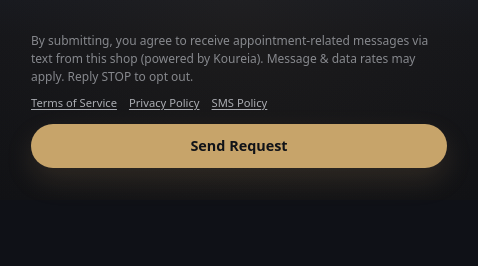
Test: RequestRenderer after-hours submit flow › requires name and phone before regular request submission
Click the button "Send Request".
click(239, 146)  # box [31,124,447,168]
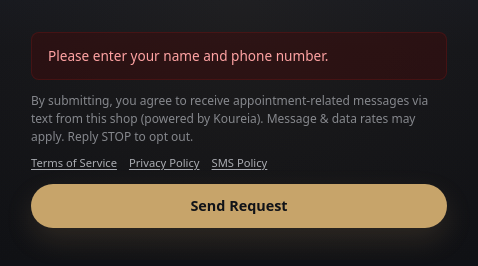
Expected: the text "Please enter your name and phone number." is shown, [31,32,447,80]
